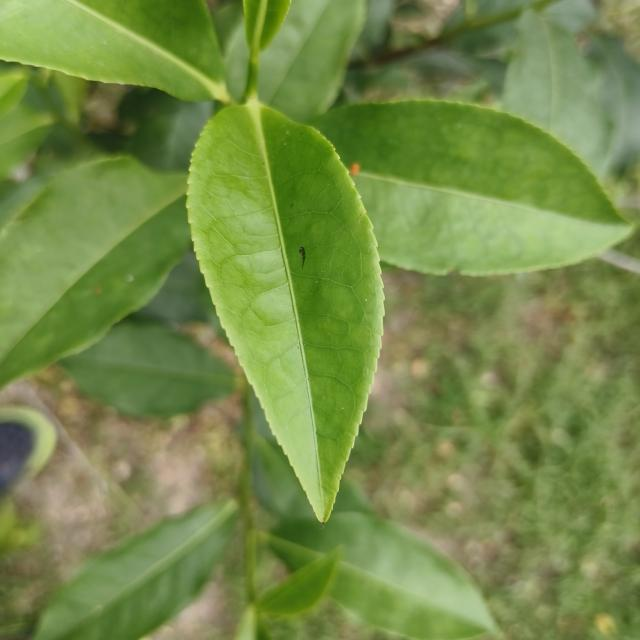Leaf: (187, 101, 383, 521), (314, 100, 630, 275), (0, 157, 191, 386), (266, 494, 496, 640), (33, 500, 237, 640), (0, 0, 229, 101), (501, 10, 611, 177), (60, 321, 235, 418), (258, 0, 365, 122), (593, 35, 640, 170), (256, 550, 341, 615), (0, 104, 52, 181), (226, 21, 248, 99)
